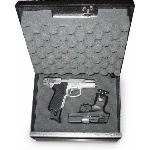Pistol: (44, 77, 98, 111), (68, 93, 115, 123)
